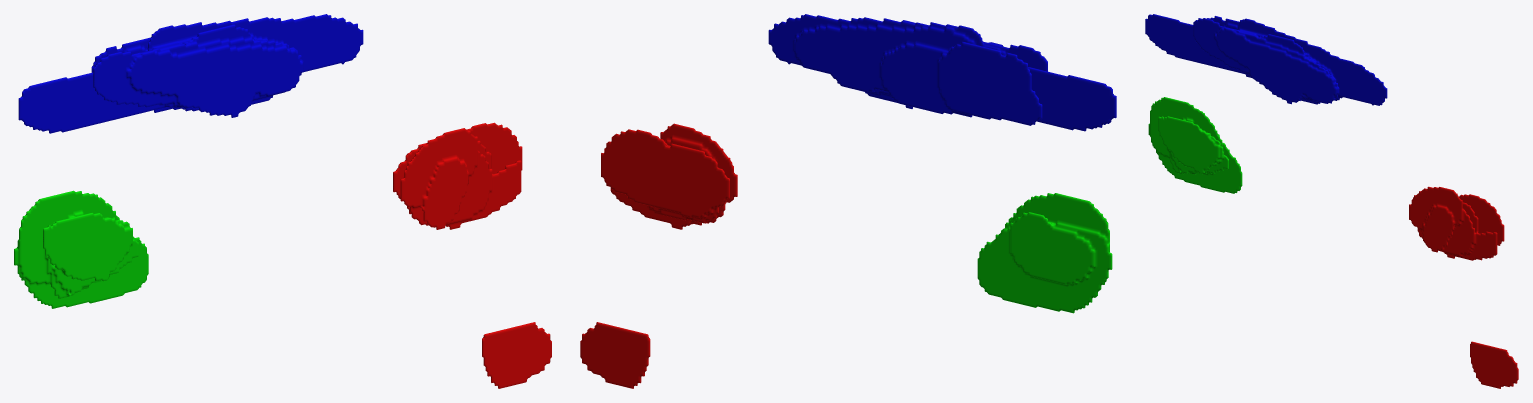
Rendered from mask-glb.glb.
3 renders of one model, left to right at view 1: azimuth 30°, elevation 25°; view 2: azimuth 150°, elevation 25°; view 3: azimuth 330°, elevation 25°, orthographic. The views are drawn at different scales.
Visible parts, largest first — view 1: channel_3, channel_2, channel_1; view 2: channel_3, channel_2, channel_1; view 3: channel_3, channel_2, channel_1.
Part boxes in pixels (x1,y1,x2,y2): channel_3: [18, 14, 363, 133]; channel_2: [393, 122, 551, 388]; channel_1: [14, 190, 148, 308]; channel_3: [768, 14, 1116, 131]; channel_2: [580, 123, 737, 388]; channel_1: [977, 193, 1112, 313]; channel_3: [1145, 14, 1387, 105]; channel_2: [1409, 186, 1518, 388]; channel_1: [1148, 97, 1242, 193].
Bounding box in the file's own units: 226 × 179 × 8.8.
